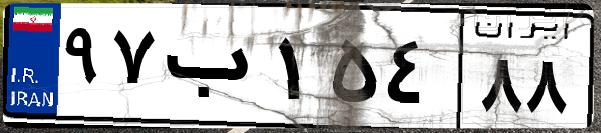1: (270, 28, 330, 110)
4: (385, 28, 445, 110)
5: (330, 28, 385, 110)
7: (110, 28, 158, 98)
8: (475, 38, 525, 113), (525, 38, 570, 115)
9: (57, 26, 110, 100)
ب: (158, 20, 270, 120)
